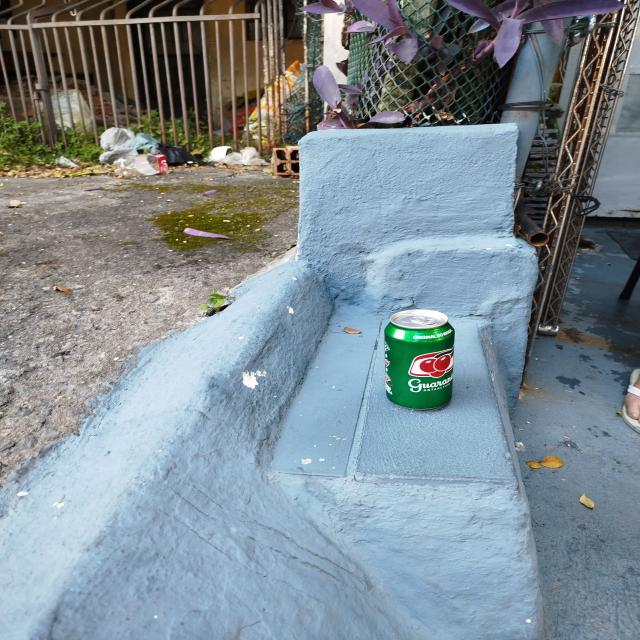Guarana: (382, 310, 453, 411)
